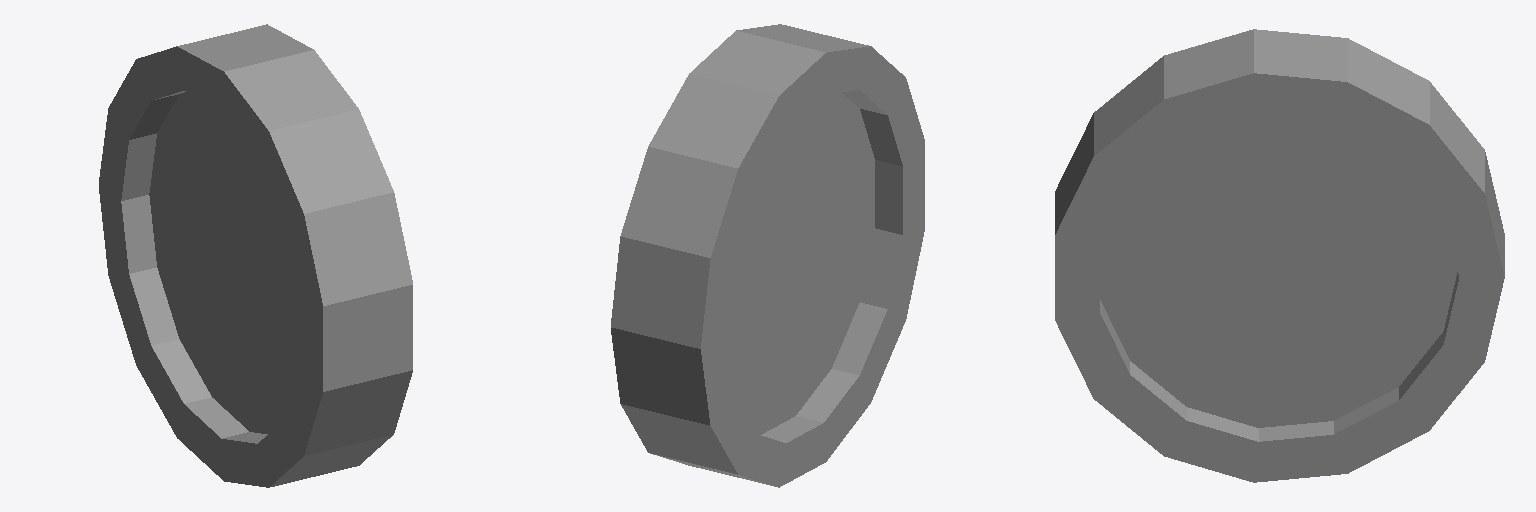
Rendered from SimpleCoin2.obj.
3 views of the same model, side by side, from view 1: azimuth 30°, elevation 25°; view 2: azimuth 150°, elevation 25°; view 3: azimuth 270°, elevation 25° (orthographic).
Parts seen in each view (by area): view 1: Cylinder; view 2: Cylinder; view 3: Cylinder.
Boxes of the visible parts, x1,y1,x2,y2 form: Cylinder: [99, 24, 412, 487]; Cylinder: [611, 24, 924, 487]; Cylinder: [1055, 29, 1504, 482].
Size of the model in its own units: 0.1604 by 0.6962 by 0.6924.